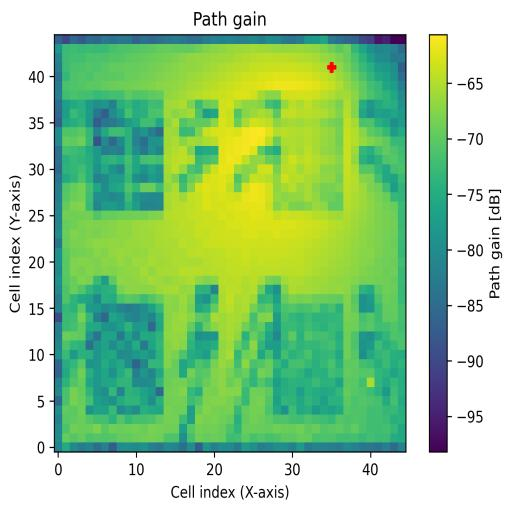Concrete: (274, 99, 343, 210)
Glass: (86, 99, 163, 210)
Metal: (274, 303, 344, 414)
Wood: (86, 304, 164, 414)
